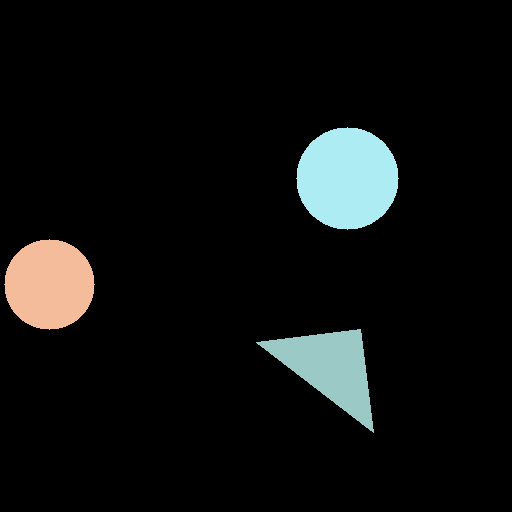circle: (296, 127, 398, 229), (4, 239, 94, 329)
triangle: (256, 329, 373, 432)
